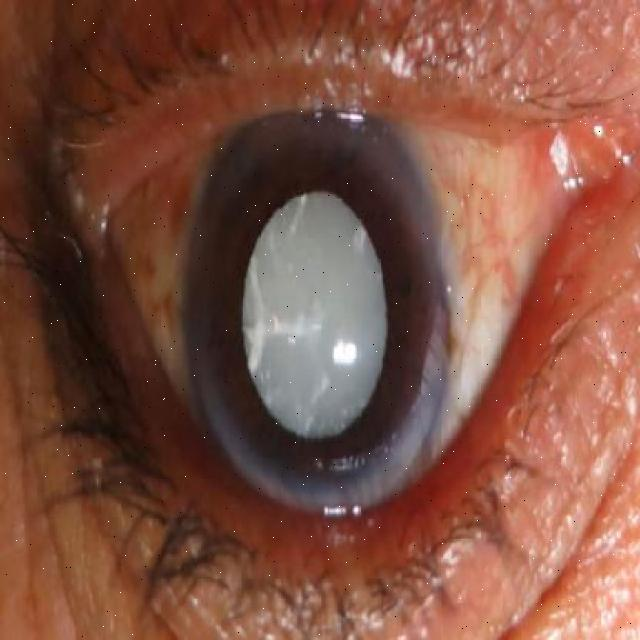Cataract: (181, 105, 449, 515)
